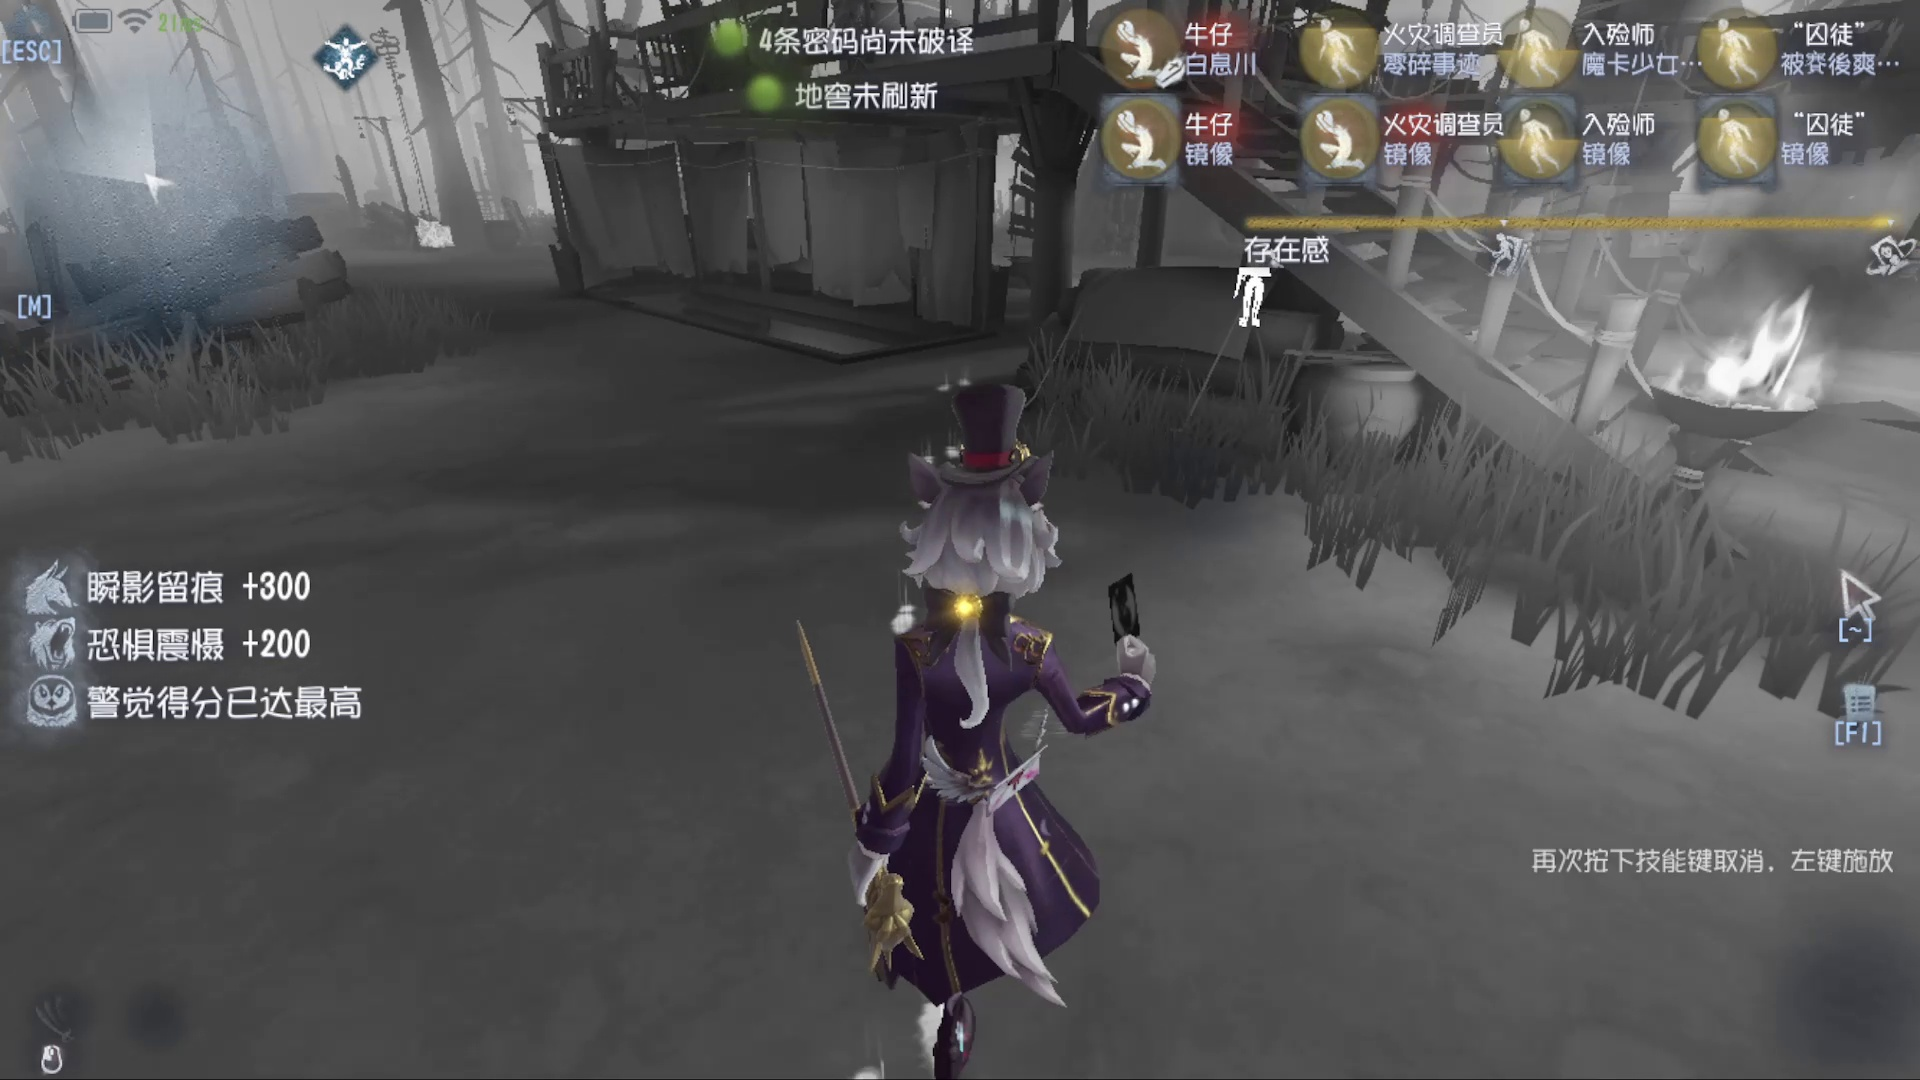密码机: (357, 33, 481, 280)
